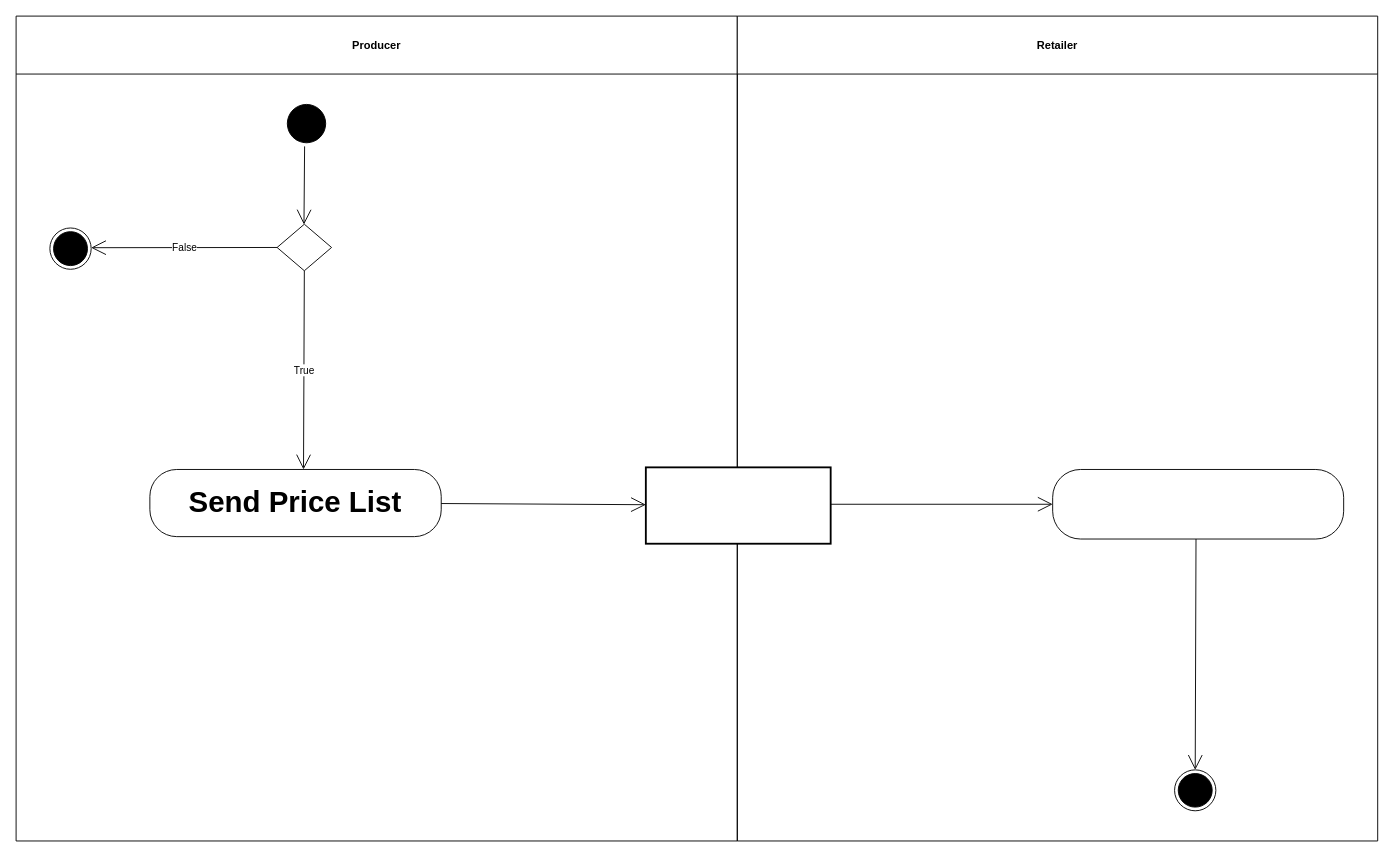
Some shapes in this 1394 by 857 pixel diagram are drawn without their labels. The centre of each missing label's shape, as x and y in pixels:
"Catalogue" goes at (737,505).
"Receive Price List" goes at (1198,504).
